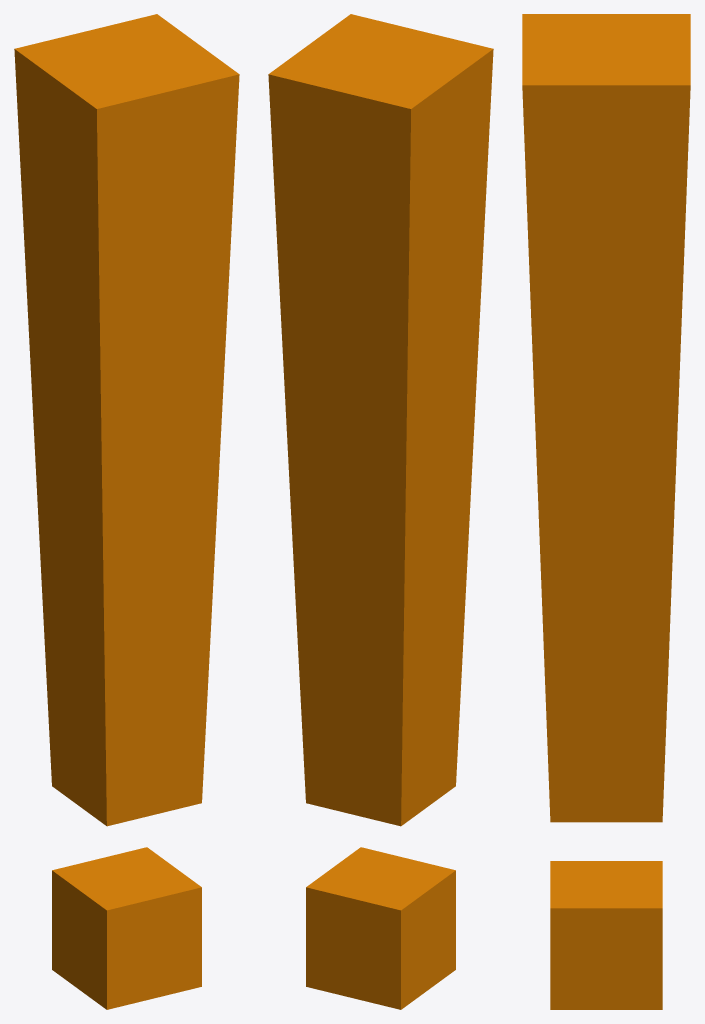
The model's file is Task.glb.
The picture shows the model from 3 angles, left to right: view 1: azimuth 30°, elevation 25°; view 2: azimuth 150°, elevation 25°; view 3: azimuth 270°, elevation 25°; orthographic projection. The views are drawn at different scales.
Visible parts, largest first — view 1: Cube; view 2: Cube; view 3: Cube.
Part boxes in pixels (<box>): Cube: <box>14,14,239,1009</box>; Cube: <box>268,14,493,1009</box>; Cube: <box>522,14,690,1009</box>.
Size of the model in its own units: 0.3645 by 2.24 by 0.3645.
